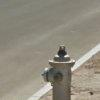Hydrant: (36, 34, 86, 100)
